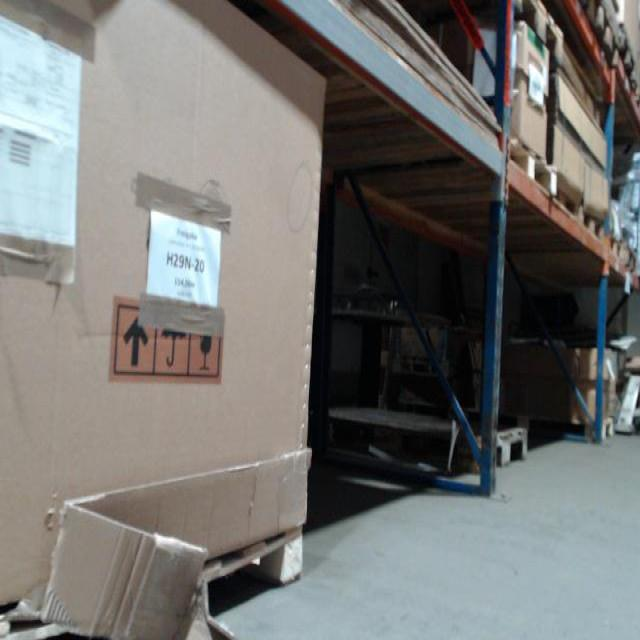pallet: (1, 514, 310, 640), (345, 418, 528, 476), (506, 1, 564, 69), (504, 132, 555, 206), (582, 4, 613, 66), (535, 415, 616, 438), (616, 13, 637, 101), (550, 177, 580, 231), (581, 199, 603, 253), (619, 239, 635, 279), (604, 230, 621, 263)
pallet_truck: (605, 353, 639, 439)
